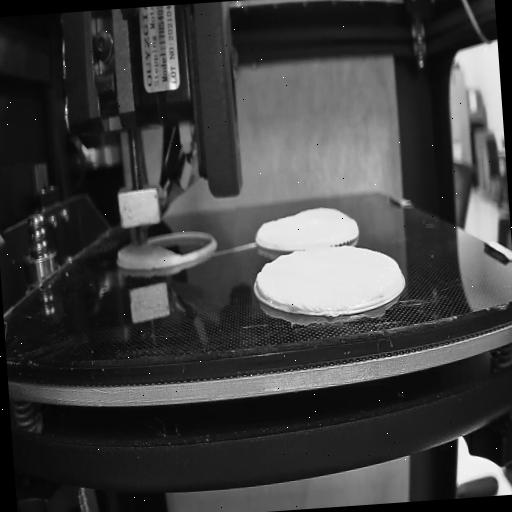over_extrusion: (254, 268, 272, 300)
